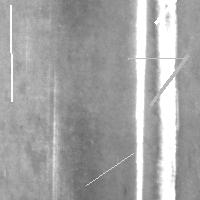scratches: (154, 1, 178, 199), (132, 1, 148, 199), (145, 50, 193, 110), (81, 148, 138, 190), (49, 73, 62, 198), (150, 0, 195, 28), (6, 0, 17, 106), (123, 52, 189, 63)
